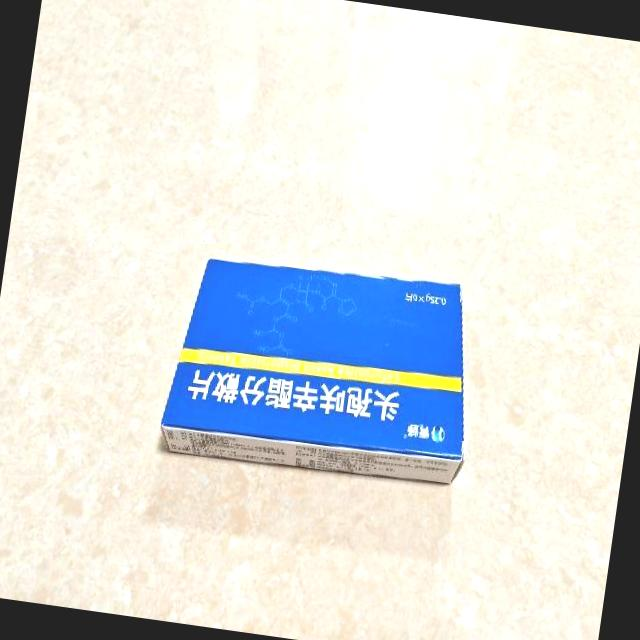box: (156, 245, 489, 496)
